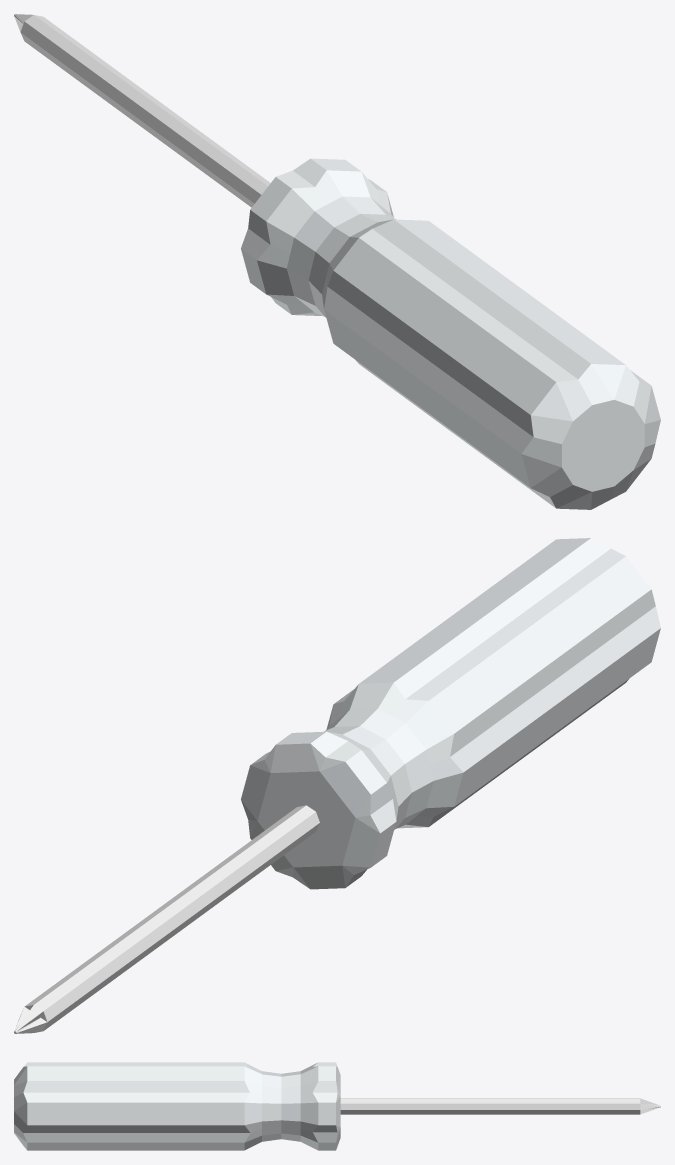
File: Screwdriver.fbx
The picture shows the model from 3 angles, top to bottom: view 1: azimuth 30°, elevation 25°; view 2: azimuth 150°, elevation 25°; view 3: azimuth 270°, elevation 25°; orthographic projection. The views are drawn at different scales.
Visible parts, largest first — view 1: Screwdriver; view 2: Screwdriver; view 3: Screwdriver.
Boxes of the visible parts, box(x1,y1,x2,y2) form: Screwdriver: box(14, 14, 660, 509); Screwdriver: box(14, 538, 660, 1033); Screwdriver: box(14, 1062, 660, 1150).
Bounding box in the file's own units: 0.0591 × 0.0591 × 0.4316.
